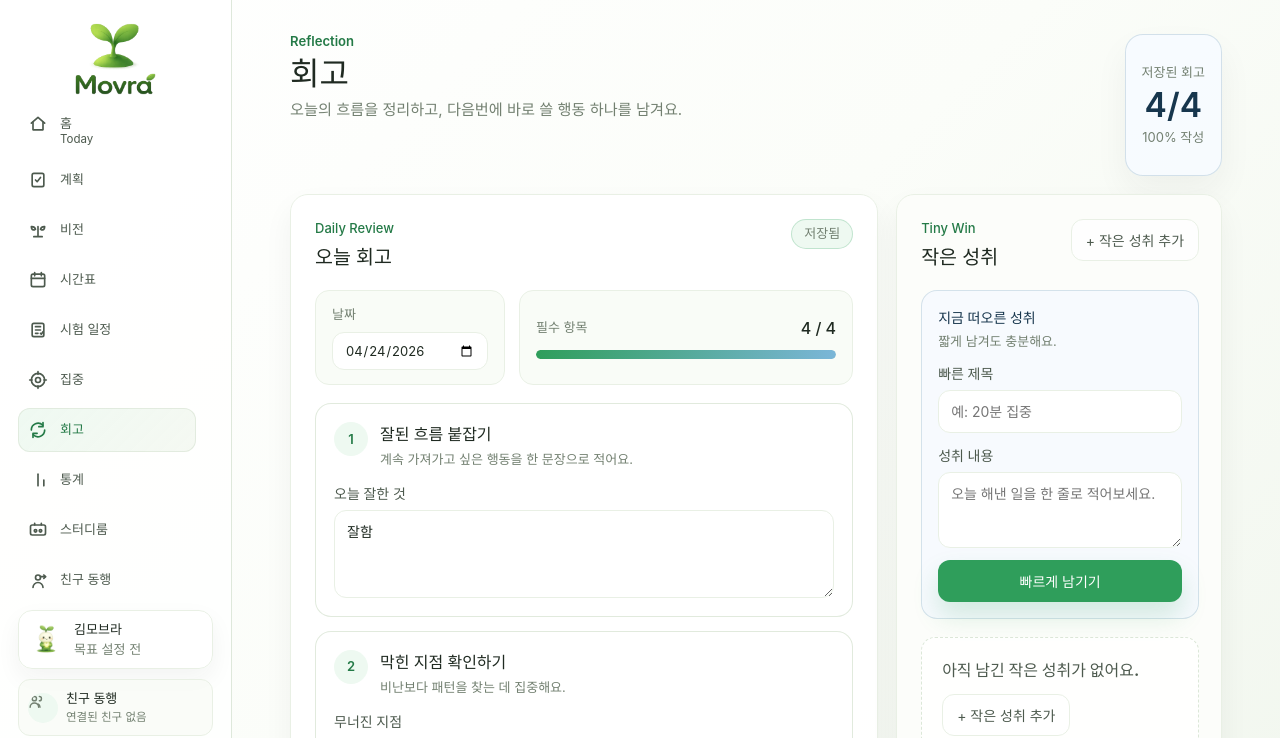
Test case: ReflectionPage › loads and edits an existing daily reflection for today
The width and height of the screenshot is (1280, 738).
Replace the text in the text box labelled "오늘 잘한 것" with "수정된 잘함". click: (584, 554)
box: [334, 510, 834, 598]
(page scrolled)
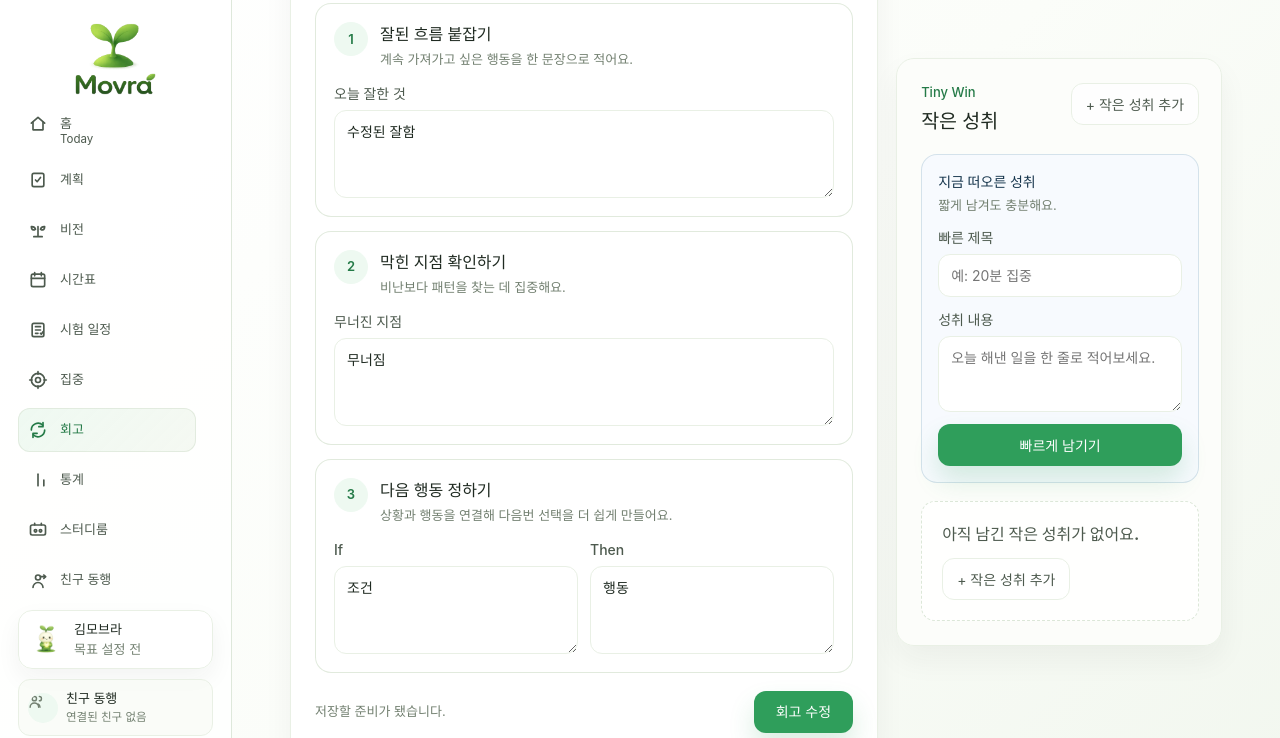
Click the button "회고 수정". click: (803, 712)
box: [754, 691, 853, 733]
(page scrolled)
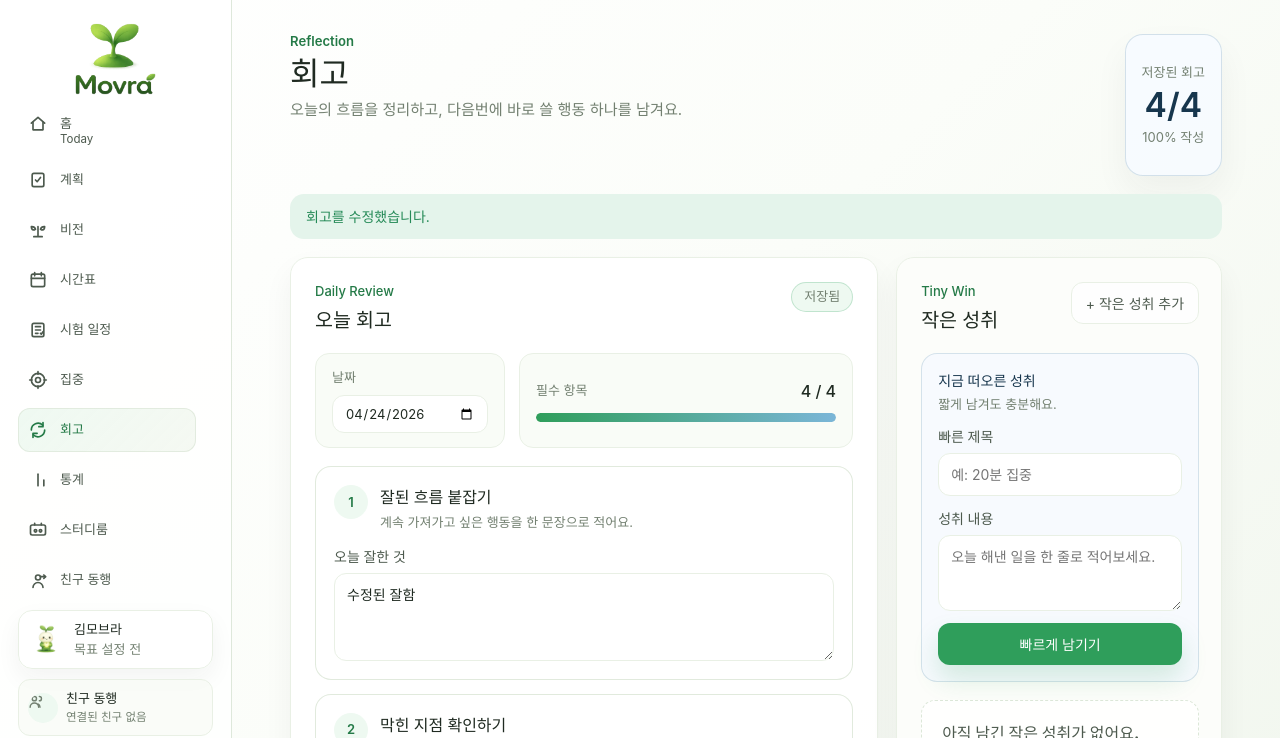
expect the text "회고를 수정했습니다." is shown: met, box [290, 194, 1222, 239]
